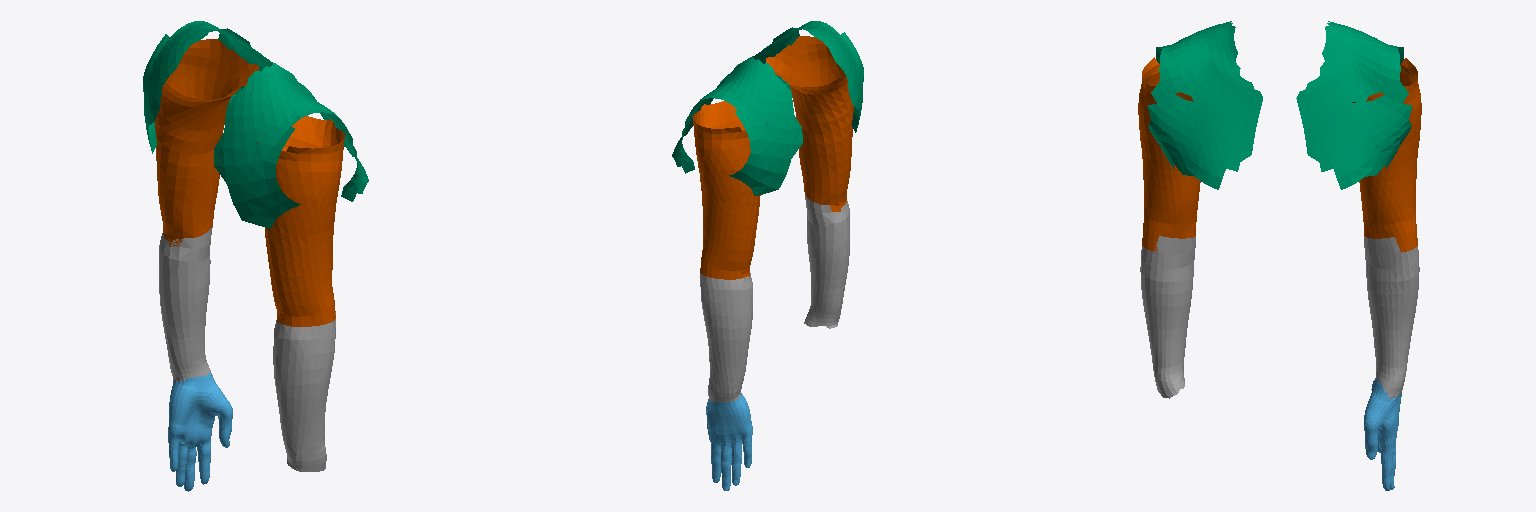
robot.urdf — soma_two_arms:
<robot name="soma_two_arms">
  <link name="base_link"/>
  <link name="Girdle"/>
  <joint name="girdle_mount" type="fixed"><parent link="base_link"/><child link="Girdle"/><origin xyz="0.000000 0.000000 -0.003150" rpy="0.000000 0.000000 1.570796"/></joint>
  <link name="LeftShoulder"><visual><geometry><mesh filename="meshes/LeftShoulder.obj"/></geometry></visual><collision><geometry><mesh filename="meshes/LeftShoulder.obj"/></geometry></collision></link>
  <joint name="LeftShoulder_fixed" type="fixed"><parent link="Girdle"/><child link="LeftShoulder"/><origin xyz="0.026854 -0.076210 0.336203" rpy="0.000000 0.000000 0.000000"/></joint>
  <link name="LeftArm_p"/>
  <link name="LeftArm_r"/>
  <link name="LeftArm"><visual><geometry><mesh filename="meshes/LeftArm.obj"/></geometry></visual><collision><geometry><mesh filename="meshes/LeftArm.obj"/></geometry></collision></link>
  <joint name="Left_shoulder_pitch" type="revolute"><parent link="LeftShoulder"/><child link="LeftArm_p"/><origin xyz="0.224408 0.082760 0.000000" rpy="0.000000 1.570796 0.000000"/><axis xyz="0.000000 0.000000 1.000000"/><limit lower="-3.0" upper="3.0" effort="100" velocity="6.0"/></joint>
  <joint name="Left_shoulder_roll" type="revolute"><parent link="LeftArm_p"/><child link="LeftArm_r"/><origin xyz="0.000000 0.000000 0.000000" rpy="0.000000 0.000000 0.000000"/><axis xyz="0.000000 1.000000 0.000000"/><limit lower="-2.8" upper="2.8" effort="100" velocity="6.0"/></joint>
  <joint name="Left_shoulder_yaw" type="revolute"><parent link="LeftArm_r"/><child link="LeftArm"/><origin xyz="0.000000 0.000000 0.000000" rpy="0.000000 0.000000 0.000000"/><axis xyz="1.000000 0.000000 0.000000"/><limit lower="-1.6" upper="1.6" effort="100" velocity="6.0"/></joint>
  <link name="LeftForeArm_e"/>
  <link name="LeftForeArm"><visual><geometry><mesh filename="meshes/LeftForeArm.obj"/></geometry></visual><collision><geometry><mesh filename="meshes/LeftForeArm.obj"/></geometry></collision></link>
  <joint name="Left_elbow" type="revolute"><parent link="LeftArm"/><child link="LeftForeArm_e"/><origin xyz="0.411188 0.000000 0.000000" rpy="0.000000 0.000000 0.000000"/><axis xyz="0.000000 0.000000 -1.000000"/><limit lower="0.0" upper="2.6" effort="100" velocity="6.0"/></joint>
  <joint name="Left_forearm_twist" type="revolute"><parent link="LeftForeArm_e"/><child link="LeftForeArm"/><origin xyz="0.000000 0.000000 0.000000" rpy="0.000000 0.000000 0.000000"/><axis xyz="1.000000 0.000000 0.000000"/><limit lower="-1.6" upper="1.6" effort="100" velocity="6.0"/></joint>
  <link name="LeftHand_f"/>
  <link name="LeftHand"><visual><geometry><mesh filename="meshes/LeftHand.obj"/></geometry></visual><collision><geometry><mesh filename="meshes/LeftHand.obj"/></geometry></collision></link>
  <joint name="Left_wrist_flex" type="revolute"><parent link="LeftForeArm"/><child link="LeftHand_f"/><origin xyz="0.372764 0.000000 0.000000" rpy="0.000000 0.000000 0.000000"/><axis xyz="0.000000 1.000000 0.000000"/><limit lower="-1.2" upper="1.2" effort="100" velocity="6.0"/></joint>
  <joint name="Left_wrist_dev" type="revolute"><parent link="LeftHand_f"/><child link="LeftHand"/><origin xyz="0.000000 0.000000 0.000000" rpy="0.000000 0.000000 0.000000"/><axis xyz="0.000000 0.000000 1.000000"/><limit lower="-0.6" upper="0.6" effort="100" velocity="6.0"/></joint>
  <link name="RightShoulder"><visual><geometry><mesh filename="meshes/RightShoulder.obj"/></geometry></visual><collision><geometry><mesh filename="meshes/RightShoulder.obj"/></geometry></collision></link>
  <joint name="RightShoulder_fixed" type="fixed"><parent link="Girdle"/><child link="RightShoulder"/><origin xyz="-0.028887 -0.075708 0.336150" rpy="0.000000 0.000000 0.000000"/></joint>
  <link name="RightArm_p"/>
  <link name="RightArm_r"/>
  <link name="RightArm"><visual><geometry><mesh filename="meshes/RightArm.obj"/></geometry></visual><collision><geometry><mesh filename="meshes/RightArm.obj"/></geometry></collision></link>
  <joint name="Right_shoulder_pitch" type="revolute"><parent link="RightShoulder"/><child link="RightArm_p"/><origin xyz="-0.224401 0.082757 0.000000" rpy="0.000000 -1.570796 0.000000"/><axis xyz="0.000000 0.000000 -1.000000"/><limit lower="-3.0" upper="3.0" effort="100" velocity="6.0"/></joint>
  <joint name="Right_shoulder_roll" type="revolute"><parent link="RightArm_p"/><child link="RightArm_r"/><origin xyz="0.000000 0.000000 0.000000" rpy="0.000000 0.000000 0.000000"/><axis xyz="0.000000 1.000000 0.000000"/><limit lower="-2.8" upper="2.8" effort="100" velocity="6.0"/></joint>
  <joint name="Right_shoulder_yaw" type="revolute"><parent link="RightArm_r"/><child link="RightArm"/><origin xyz="0.000000 0.000000 0.000000" rpy="0.000000 0.000000 0.000000"/><axis xyz="-1.000000 0.000000 0.000000"/><limit lower="-1.6" upper="1.6" effort="100" velocity="6.0"/></joint>
  <link name="RightForeArm_e"/>
  <link name="RightForeArm"><visual><geometry><mesh filename="meshes/RightForeArm.obj"/></geometry></visual><collision><geometry><mesh filename="meshes/RightForeArm.obj"/></geometry></collision></link>
  <joint name="Right_elbow" type="revolute"><parent link="RightArm"/><child link="RightForeArm_e"/><origin xyz="-0.411040 0.000000 0.000000" rpy="0.000000 0.000000 0.000000"/><axis xyz="0.000000 0.000000 1.000000"/><limit lower="0.0" upper="2.6" effort="100" velocity="6.0"/></joint>
  <joint name="Right_forearm_twist" type="revolute"><parent link="RightForeArm_e"/><child link="RightForeArm"/><origin xyz="0.000000 0.000000 0.000000" rpy="0.000000 0.000000 0.000000"/><axis xyz="-1.000000 0.000000 0.000000"/><limit lower="-1.6" upper="1.6" effort="100" velocity="6.0"/></joint>
  <link name="RightHand_f"/>
  <link name="RightHand"><visual><geometry><mesh filename="meshes/RightHand.obj"/></geometry></visual><collision><geometry><mesh filename="meshes/RightHand.obj"/></geometry></collision></link>
  <joint name="Right_wrist_flex" type="revolute"><parent link="RightForeArm"/><child link="RightHand_f"/><origin xyz="-0.372912 0.000000 -0.000000" rpy="0.000000 0.000000 0.000000"/><axis xyz="0.000000 -1.000000 0.000000"/><limit lower="-1.2" upper="1.2" effort="100" velocity="6.0"/></joint>
  <joint name="Right_wrist_dev" type="revolute"><parent link="RightHand_f"/><child link="RightHand"/><origin xyz="0.000000 0.000000 0.000000" rpy="0.000000 0.000000 0.000000"/><axis xyz="0.000000 0.000000 1.000000"/><limit lower="-0.6" upper="0.6" effort="100" velocity="6.0"/></joint>
</robot>

--- Render facts (derived) ---
The picture shows the robot from 3 angles, left to right: view 1: azimuth 30°, elevation 25°; view 2: azimuth 150°, elevation 25°; view 3: azimuth 270°, elevation 25°; orthographic projection.
Robot: soma_two_arms — 18 links, 17 joints (14 revolute, 3 fixed); root link base_link; default pose: all joints at 0.
Links seen in each view (by area): view 1: LeftArm, RightArm, RightShoulder, RightForeArm, LeftForeArm, LeftHand, LeftShoulder; view 2: RightArm, LeftArm, LeftShoulder, LeftForeArm, RightForeArm, LeftHand, RightShoulder; view 3: LeftShoulder, RightShoulder, RightForeArm, LeftForeArm, LeftArm, RightArm, LeftHand.
Link boxes in pixels (box(x1,y1,x2,y2)): LeftArm: box(155, 39, 258, 246); RightArm: box(257, 116, 344, 326); RightShoulder: box(214, 63, 368, 228); RightForeArm: box(273, 312, 335, 471); LeftForeArm: box(159, 226, 212, 382); LeftHand: box(168, 372, 232, 491); LeftShoulder: box(143, 21, 272, 153); RightArm: box(766, 36, 853, 211); LeftArm: box(692, 101, 766, 279); LeftShoulder: box(672, 56, 802, 195); LeftForeArm: box(700, 273, 752, 402); RightForeArm: box(804, 195, 849, 328); LeftHand: box(706, 393, 752, 490); RightShoulder: box(753, 21, 863, 132); LeftShoulder: box(1296, 21, 1412, 189); RightShoulder: box(1147, 21, 1262, 189); RightForeArm: box(1140, 236, 1195, 398); LeftForeArm: box(1364, 236, 1419, 398); LeftArm: box(1352, 58, 1421, 252); RightArm: box(1138, 57, 1200, 251); LeftHand: box(1364, 378, 1401, 490).
Bounding box of the posed robot: 0.3817 × 0.6477 × 1.17 m (x, y, z).
Meshes: 8 distinct files referenced, 7 mesh visuals loaded (7 OBJ); not drawn: 1 (reference not matched to a file when rendering).
